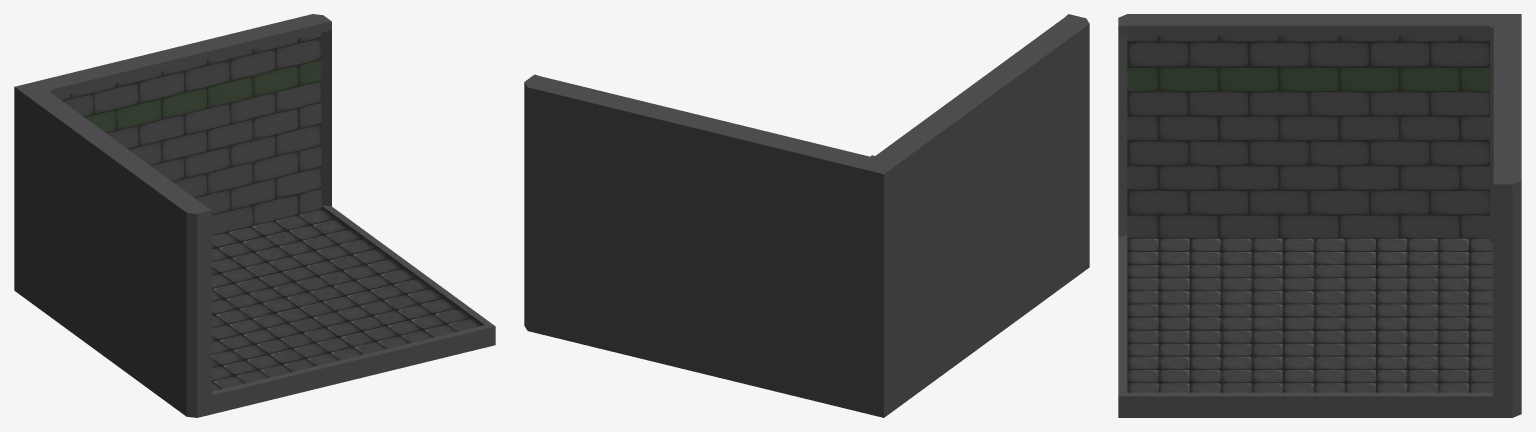
Rendered from RoomFloor1.fbx.
3 views of the same model, side by side, from view 1: azimuth 30°, elevation 25°; view 2: azimuth 150°, elevation 25°; view 3: azimuth 270°, elevation 25° (orthographic). The views are drawn at different scales.
Parts seen in each view (by area): view 1: Cube; view 2: Cube; view 3: Cube.
Part boxes in pixels (box(x1,y1,x2,y2)): Cube: box(14, 14, 495, 417); Cube: box(524, 14, 1089, 417); Cube: box(1118, 14, 1521, 417).
Size of the model in its own units: 346 by 221 by 346.
